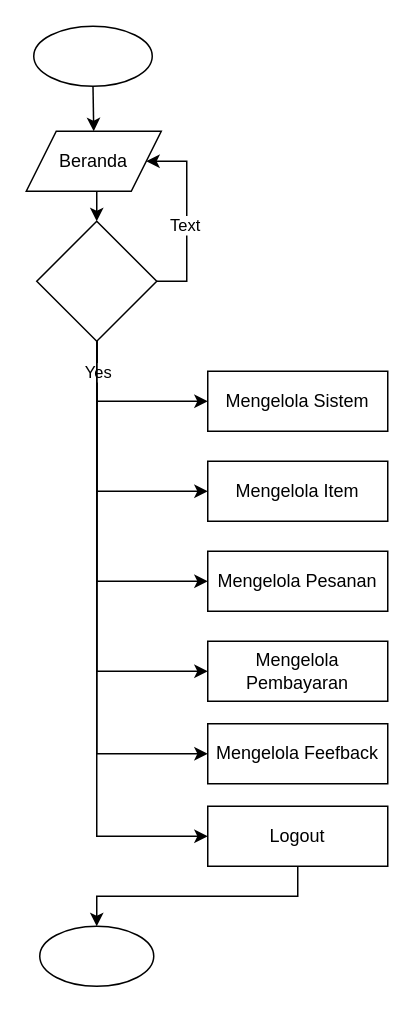
Some shapes in this 414 by 1013 pixel diagram are drawn without their labels. The centre of each missing label's shape, as x and y in pixels:
End: the point at 96,955
Login: the point at 96,280
Start: the point at 92,55
